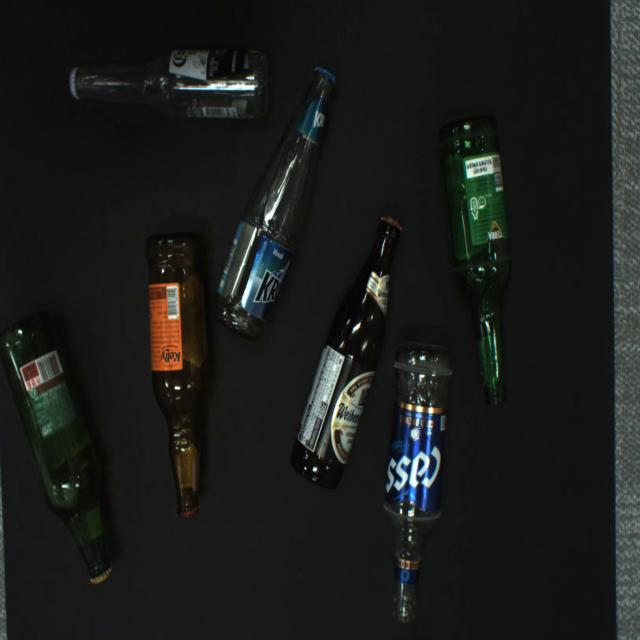beer-bottle: (209, 66, 337, 342), (289, 215, 403, 489), (0, 311, 114, 584), (436, 116, 512, 407), (382, 343, 453, 623), (146, 233, 212, 518), (69, 49, 269, 119)
